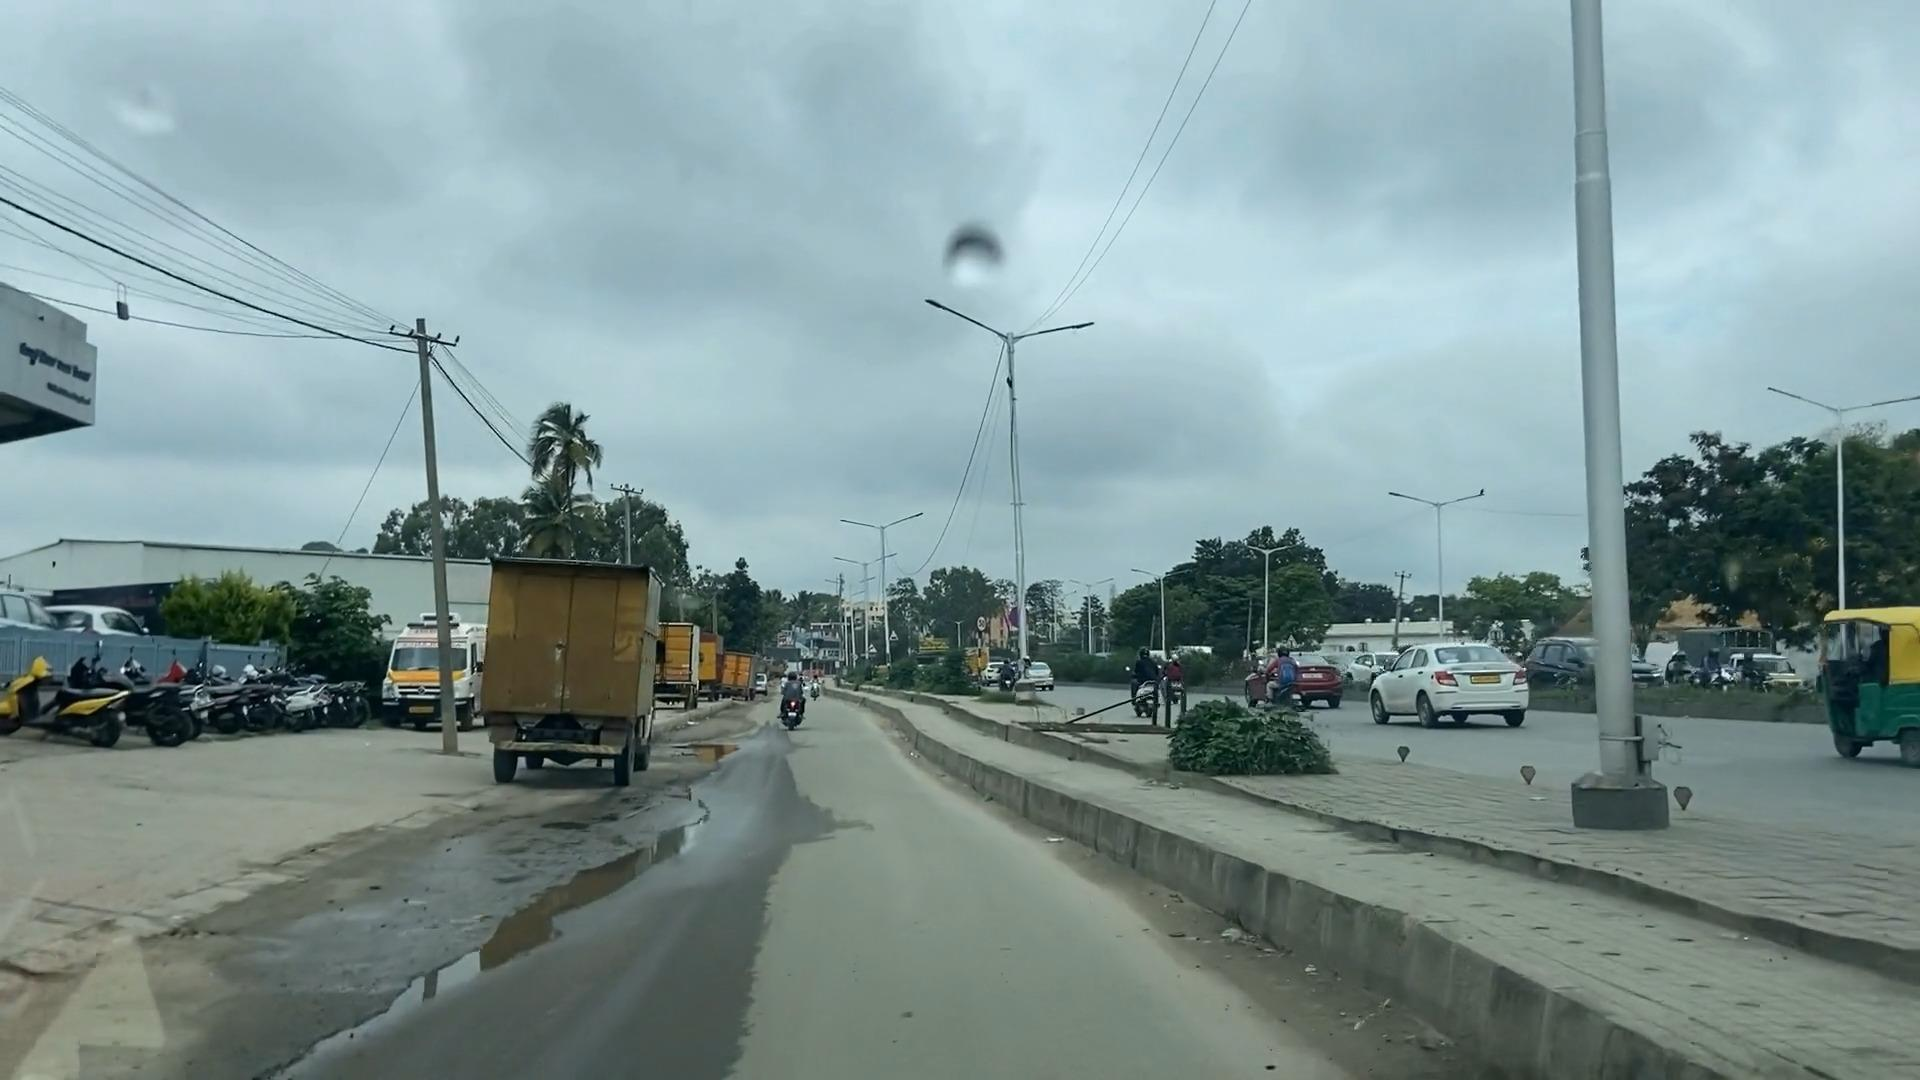HMV: (491, 556, 641, 778)
